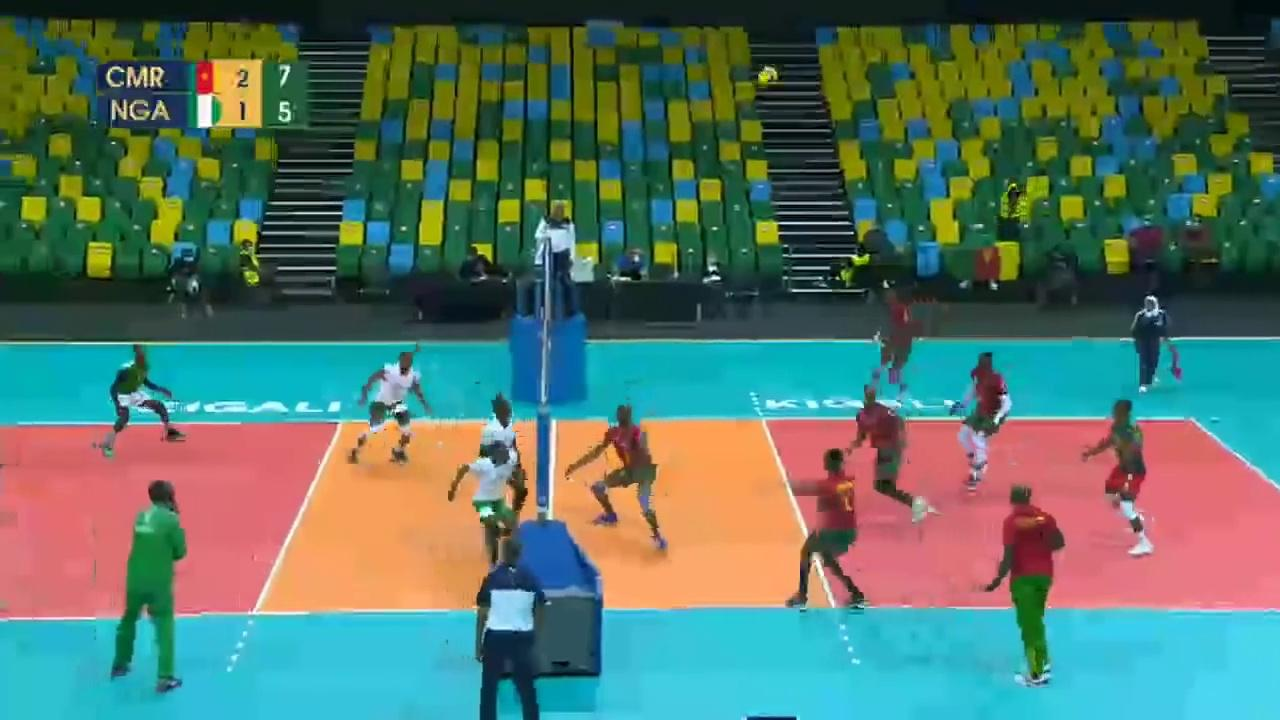player: (570, 405, 671, 549), (840, 387, 938, 527), (788, 451, 864, 604), (1083, 402, 1153, 554), (948, 354, 1017, 495), (98, 346, 186, 453), (350, 352, 430, 465), (456, 442, 518, 586), (864, 281, 929, 411), (474, 396, 534, 530)
refree: (477, 533, 553, 720), (537, 200, 580, 304), (1133, 294, 1174, 394)
